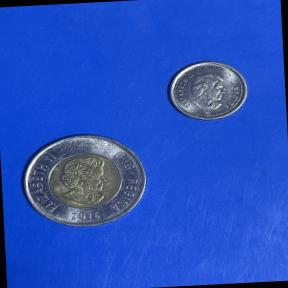Canada-10cent-B: (162, 52, 256, 129)
Canada-2Dollar-B: (14, 123, 158, 238)
